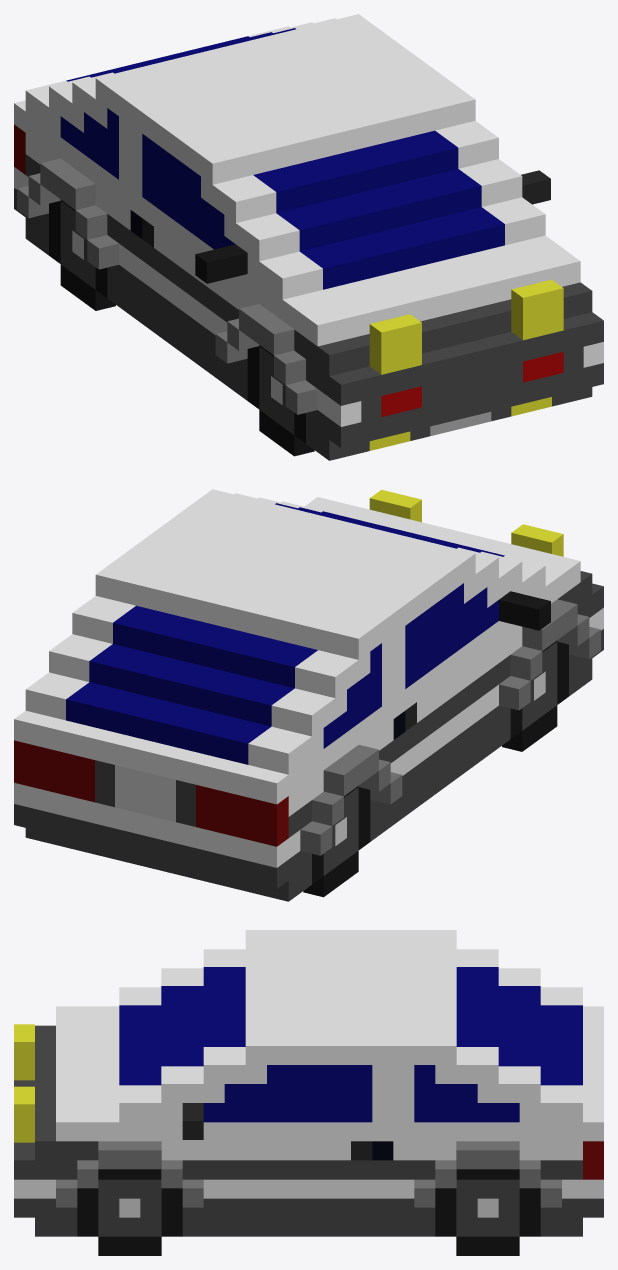
The picture shows the model from 3 angles, top to bottom: view 1: azimuth 30°, elevation 25°; view 2: azimuth 150°, elevation 25°; view 3: azimuth 270°, elevation 25°; orthographic projection. The views are drawn at different scales.
Parts seen in each view (by area): view 1: AE86; view 2: AE86; view 3: AE86.
Part boxes in pixels (x1=…): AE86: x1=14, y1=14, x2=603, y2=460; AE86: x1=14, y1=489, x2=603, y2=901; AE86: x1=14, y1=930, x2=603, y2=1255.
Bounding box in the file's own units: 17 × 11 × 28.
